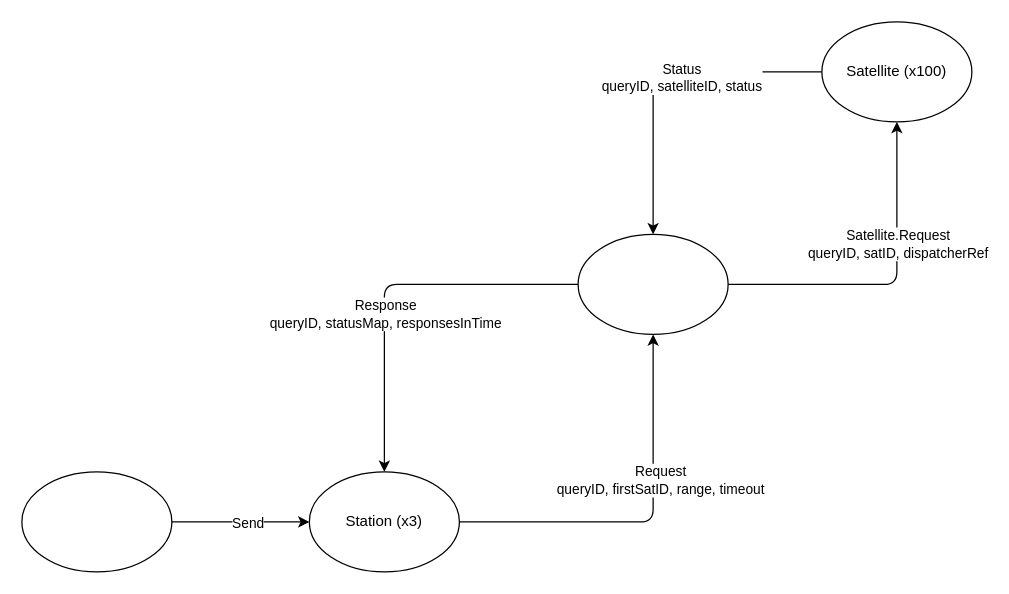
Some shapes in this 1009 by 594 pixel diagram are drawn without their labels. Each missing label, with the centre of its shape:
"Dispatcher" belongs at point 652,283.
"Main" belongs at point 96,521.
